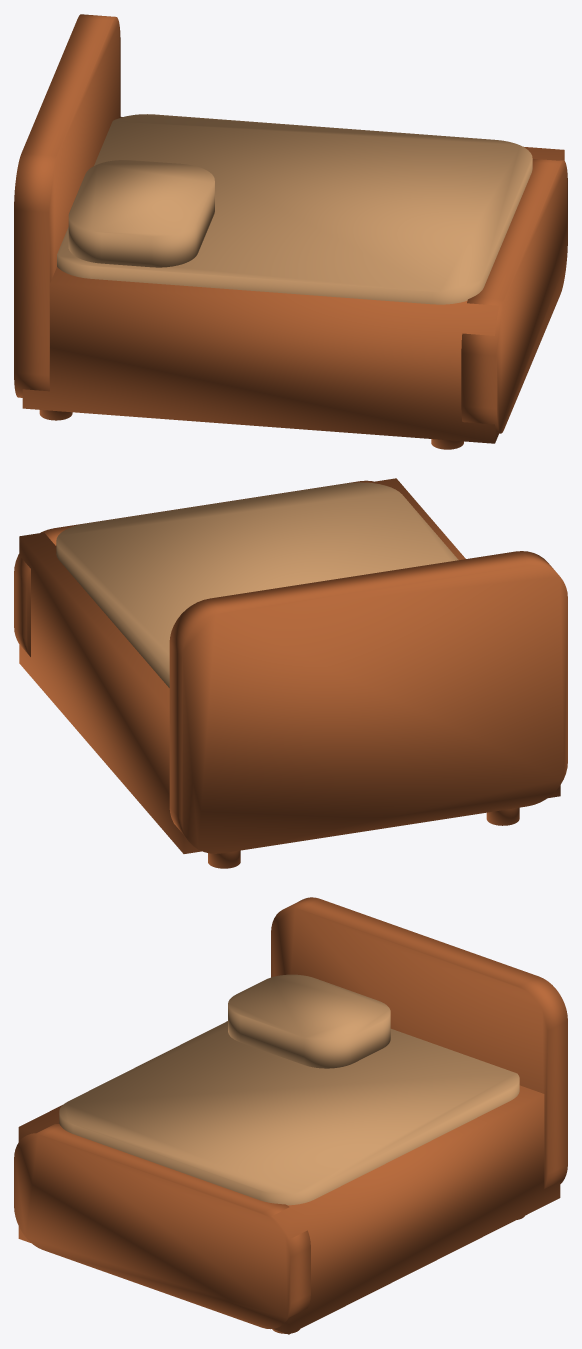
The model's file is bed.glb.
3 renders of one model, top to bottom at view 1: azimuth 30°, elevation 25°; view 2: azimuth 150°, elevation 25°; view 3: azimuth 270°, elevation 25°, orthographic. The views are drawn at different scales.
Visible parts, largest first — view 1: Cube.018, Cube.020, Cube.021, Cube.019, Cube.022, Cylinder.001; view 2: Cube.021, Cube.020, Cube.018, Cube.019, Cylinder.001; view 3: Cube.020, Cube.019, Cube.018, Cube.021, Cube.022.
Boxes of the visible parts, x1=… form: Cube.018: x1=22, y1=116, x2=564, y2=443; Cube.020: x1=57, y1=114, x2=532, y2=304; Cube.021: x1=14, y1=14, x2=120, y2=397; Cube.019: x1=461, y1=158, x2=567, y2=433; Cube.022: x1=68, y1=160, x2=214, y2=267; Cylinder.001: x1=39, y1=410, x2=463, y2=449; Cube.021: x1=169, y1=551, x2=567, y2=853; Cube.020: x1=56, y1=482, x2=458, y2=687; Cube.018: x1=19, y1=478, x2=560, y2=853; Cube.019: x1=14, y1=480, x2=373, y2=656; Cylinder.001: x1=208, y1=807, x2=519, y2=868; Cube.020: x1=59, y1=1021, x2=519, y2=1205; Cube.019: x1=14, y1=1124, x2=310, y2=1329; Cube.018: x1=18, y1=1085, x2=560, y2=1334; Cube.021: x1=271, y1=897, x2=567, y2=1188; Cube.022: x1=228, y1=974, x2=390, y2=1068.
Bounding box in the file's own units: 2.1 × 0.9573 × 2.07.
